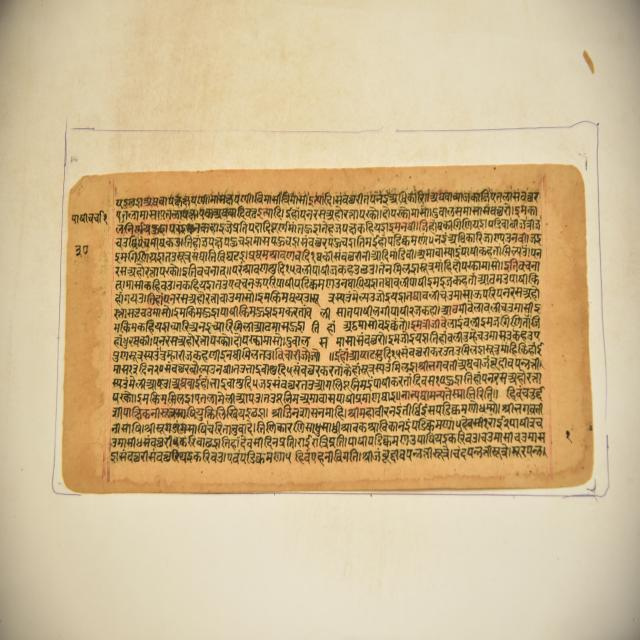text_paragraph: (64, 166, 592, 485)
